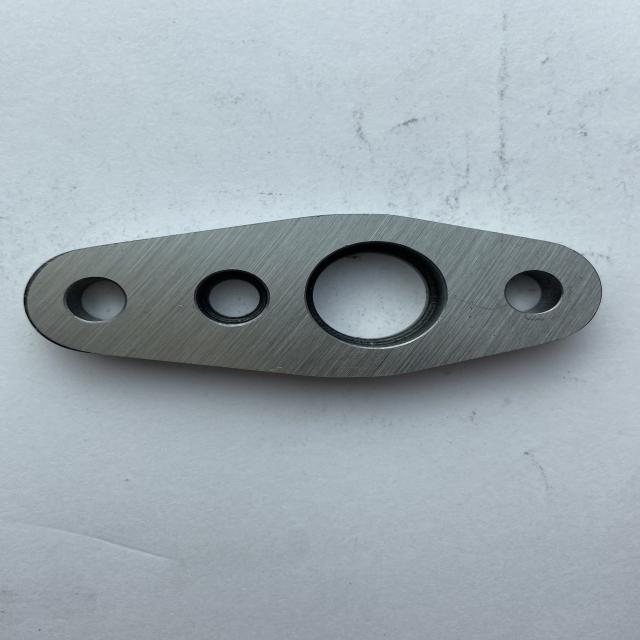chap: (176, 301, 185, 308)
lines: (454, 296, 478, 320), (521, 315, 561, 322)
